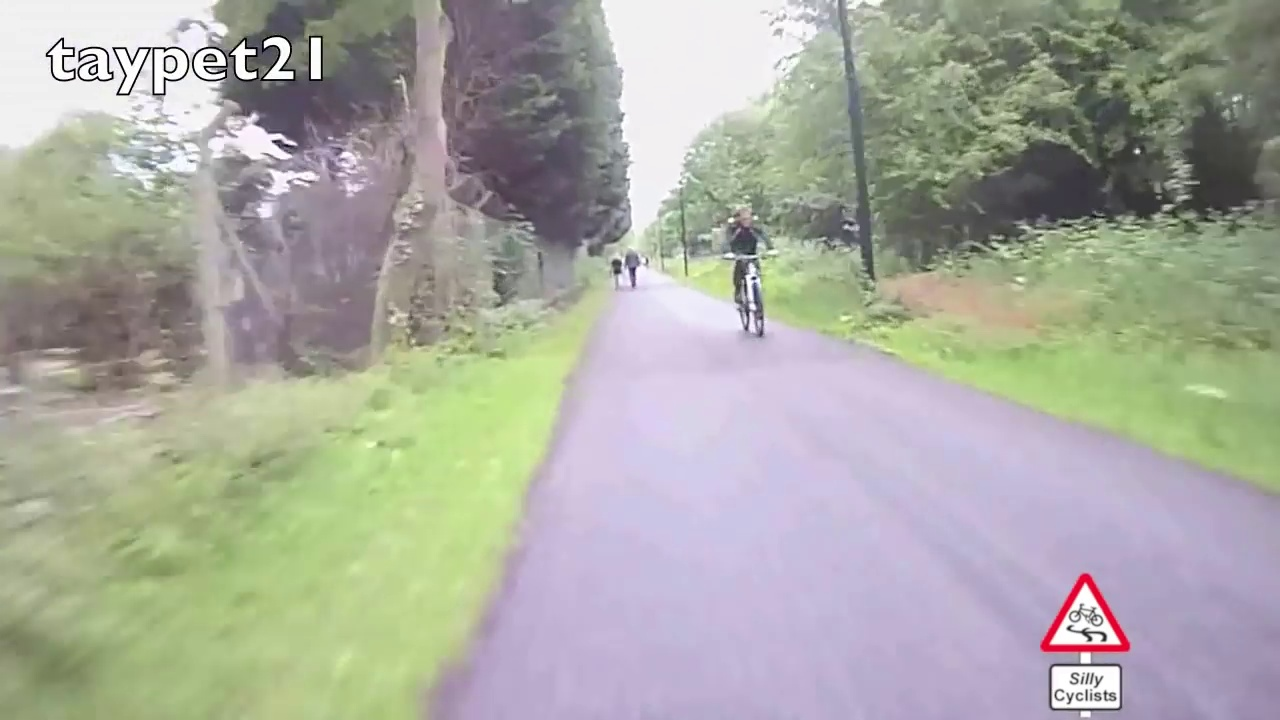cyclist_front: (717, 191, 785, 341)
